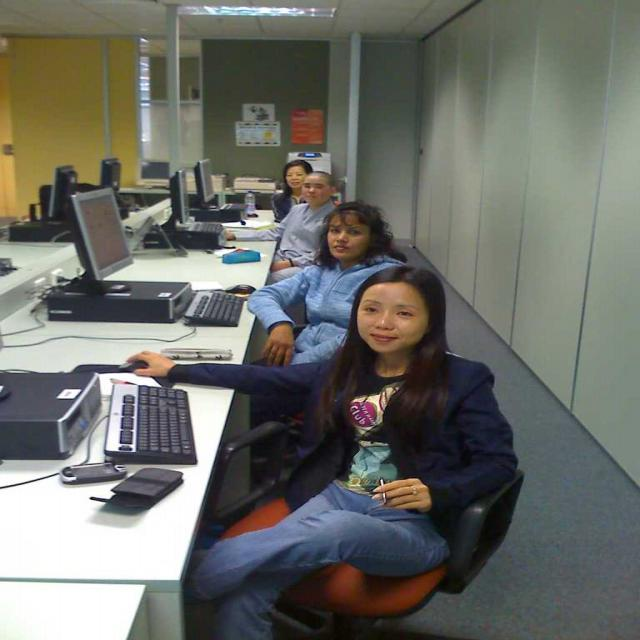chair: (273, 469, 527, 640)
desk: (2, 210, 272, 635)
keyboard: (103, 382, 199, 465), (182, 290, 246, 328)
laptop: (69, 190, 233, 286)
mouse: (59, 461, 128, 484), (119, 360, 149, 372), (227, 284, 255, 294)
person: (128, 266, 518, 638), (245, 200, 406, 368), (264, 171, 343, 283), (271, 160, 313, 220)
tv: (194, 158, 215, 204)
